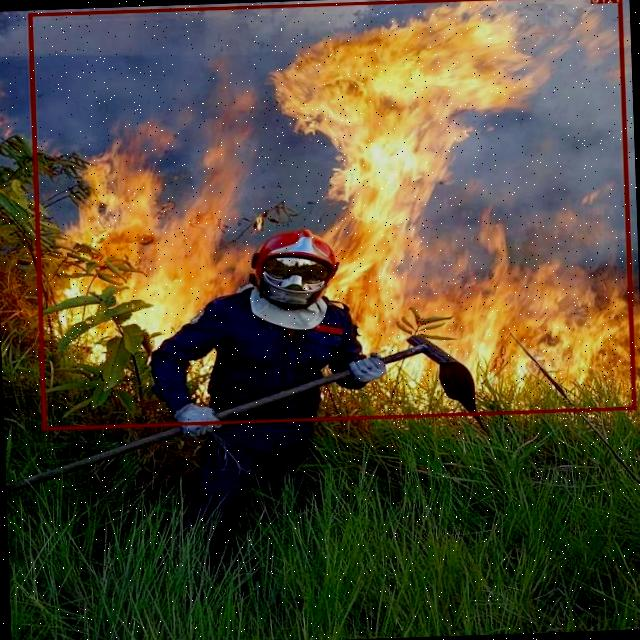fire: (29, 0, 636, 429)
